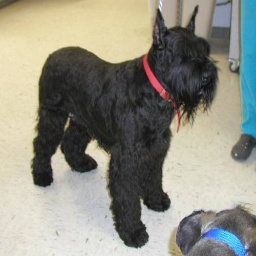dog: (32, 18, 218, 249)
